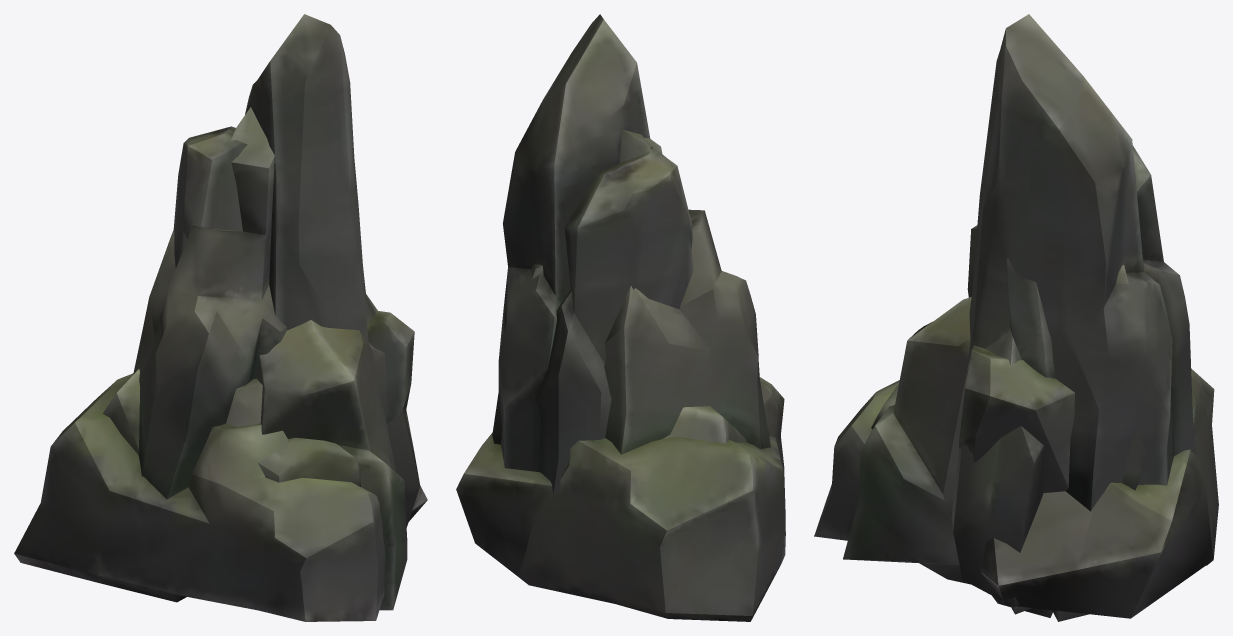
File: rocks.glb
3 renders of one model, left to right at view 1: azimuth 30°, elevation 25°; view 2: azimuth 150°, elevation 25°; view 3: azimuth 270°, elevation 25°, orthographic. The views are drawn at different scales.
Parts seen in each view (by area): view 1: Rock_5_Cube.005, Rock_4_Cube.009, Rock_1_Cube.001, Rock_2_Cube.002, Rock_3_Cube.004; view 2: Rock_5_Cube.005, Rock_4_Cube.009, Rock_2_Cube.002; view 3: Rock_4_Cube.009, Rock_5_Cube.005, Rock_1_Cube.001, Rock_3_Cube.004.
Part boxes in pixels (left/top/right/bottom): Rock_5_Cube.005: left=14, top=107, right=427, bottom=621; Rock_4_Cube.009: left=173, top=14, right=420, bottom=527; Rock_1_Cube.001: left=257, top=320, right=407, bottom=610; Rock_2_Cube.002: left=102, top=369, right=360, bottom=486; Rock_3_Cube.004: left=363, top=267, right=414, bottom=423; Rock_5_Cube.005: left=456, top=129, right=785, bottom=621; Rock_4_Cube.009: left=498, top=14, right=693, bottom=496; Rock_2_Cube.002: left=663, top=406, right=746, bottom=443; Rock_4_Cube.009: left=951, top=14, right=1195, bottom=617; Rock_5_Cube.005: left=814, top=225, right=1218, bottom=618; Rock_1_Cube.001: left=843, top=297, right=1031, bottom=614; Rock_3_Cube.004: left=920, top=258, right=1088, bottom=621.
Bounding box in the file's own units: 1.29 × 2.15 × 1.32.
Materials: 1 (1 with a texture image).
